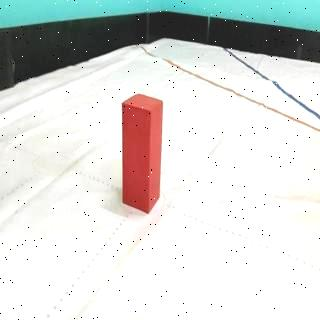redbox: (122, 93, 164, 216), (172, 212, 174, 215)
